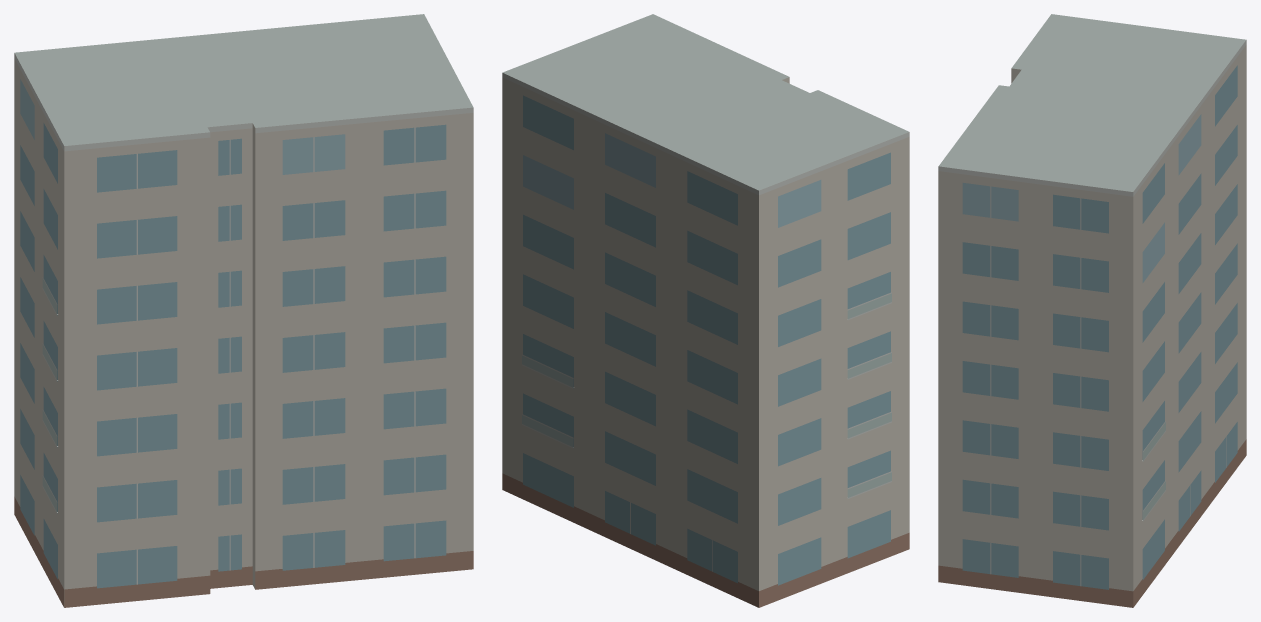
File: survey-upis-32783365.glb
3 renders of one model, left to right at view 1: azimuth 30°, elevation 25°; view 2: azimuth 150°, elevation 25°; view 3: azimuth 270°, elevation 25°, orthographic. The views are drawn at different scales.
Visible parts, largest first — view 1: survey-upis-32783365.tmp; view 2: survey-upis-32783365.tmp; view 3: survey-upis-32783365.tmp.
Part boxes in pixels (box(x1,y1,x2,y2)): survey-upis-32783365.tmp: box(14, 14, 473, 607); survey-upis-32783365.tmp: box(502, 14, 909, 607); survey-upis-32783365.tmp: box(938, 14, 1246, 607).
Size of the model in its own units: 19.62 by 21.35 by 14.35.
